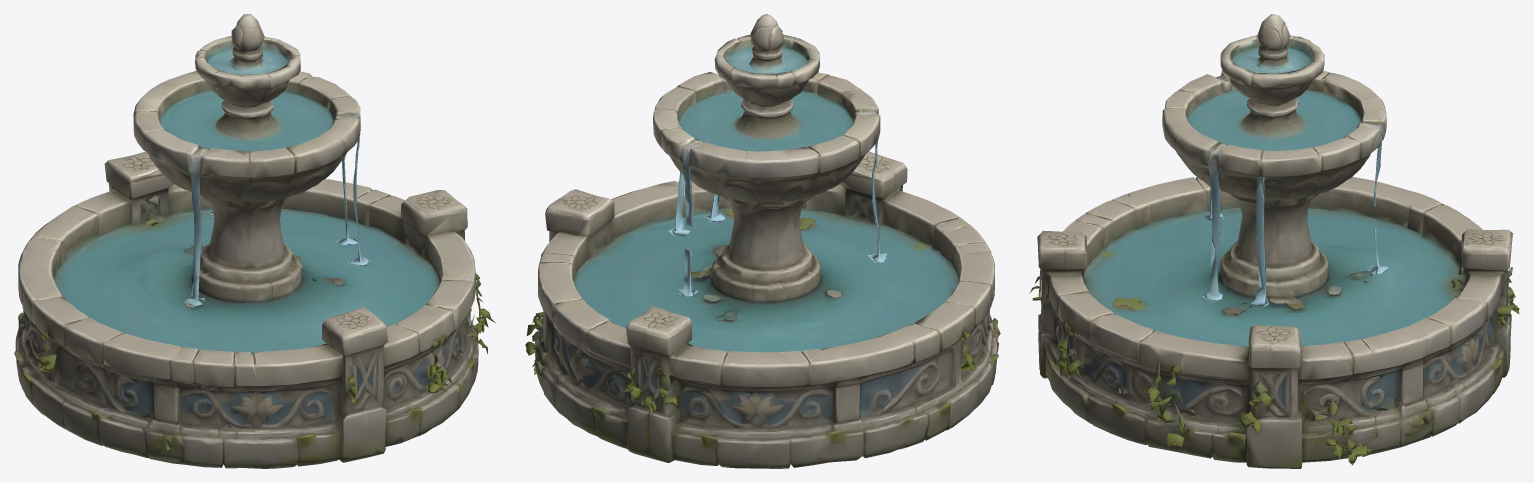
The model's file is fuente.glb.
3 renders of one model, left to right at view 1: azimuth 30°, elevation 25°; view 2: azimuth 150°, elevation 25°; view 3: azimuth 270°, elevation 25°, orthographic.
Parts seen in each view (by area): view 1: tripo_node_68503f79-5711-4172-a73e-ca0146a06e1f; view 2: tripo_node_68503f79-5711-4172-a73e-ca0146a06e1f; view 3: tripo_node_68503f79-5711-4172-a73e-ca0146a06e1f.
Boxes of the visible parts, left/top/right/bottom form: tripo_node_68503f79-5711-4172-a73e-ca0146a06e1f: left=14, top=14, right=495, bottom=468; tripo_node_68503f79-5711-4172-a73e-ca0146a06e1f: left=525, top=14, right=1000, bottom=468; tripo_node_68503f79-5711-4172-a73e-ca0146a06e1f: left=1029, top=14, right=1519, bottom=468.
Bounding box in the file's own units: 0.9878 × 0.7968 × 1.
Materials: 1 (1 with a texture image).
